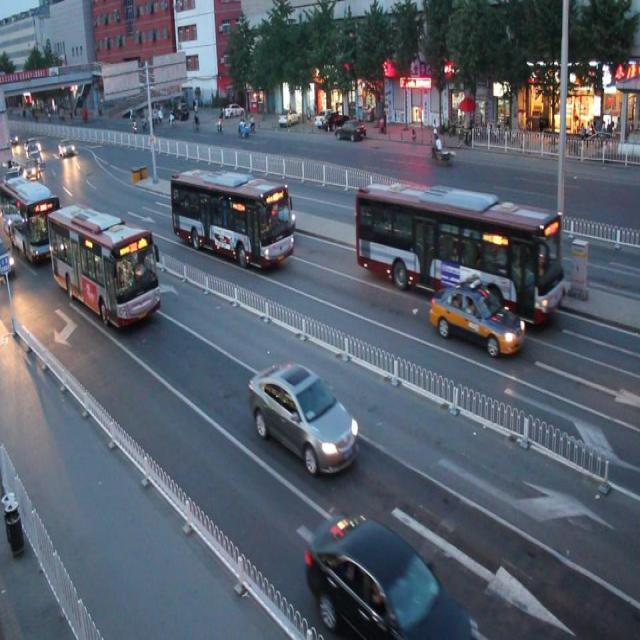car: (302, 511, 478, 640), (246, 359, 356, 478), (430, 284, 523, 357)
van: (355, 177, 560, 326), (48, 201, 158, 326), (170, 165, 294, 264)
